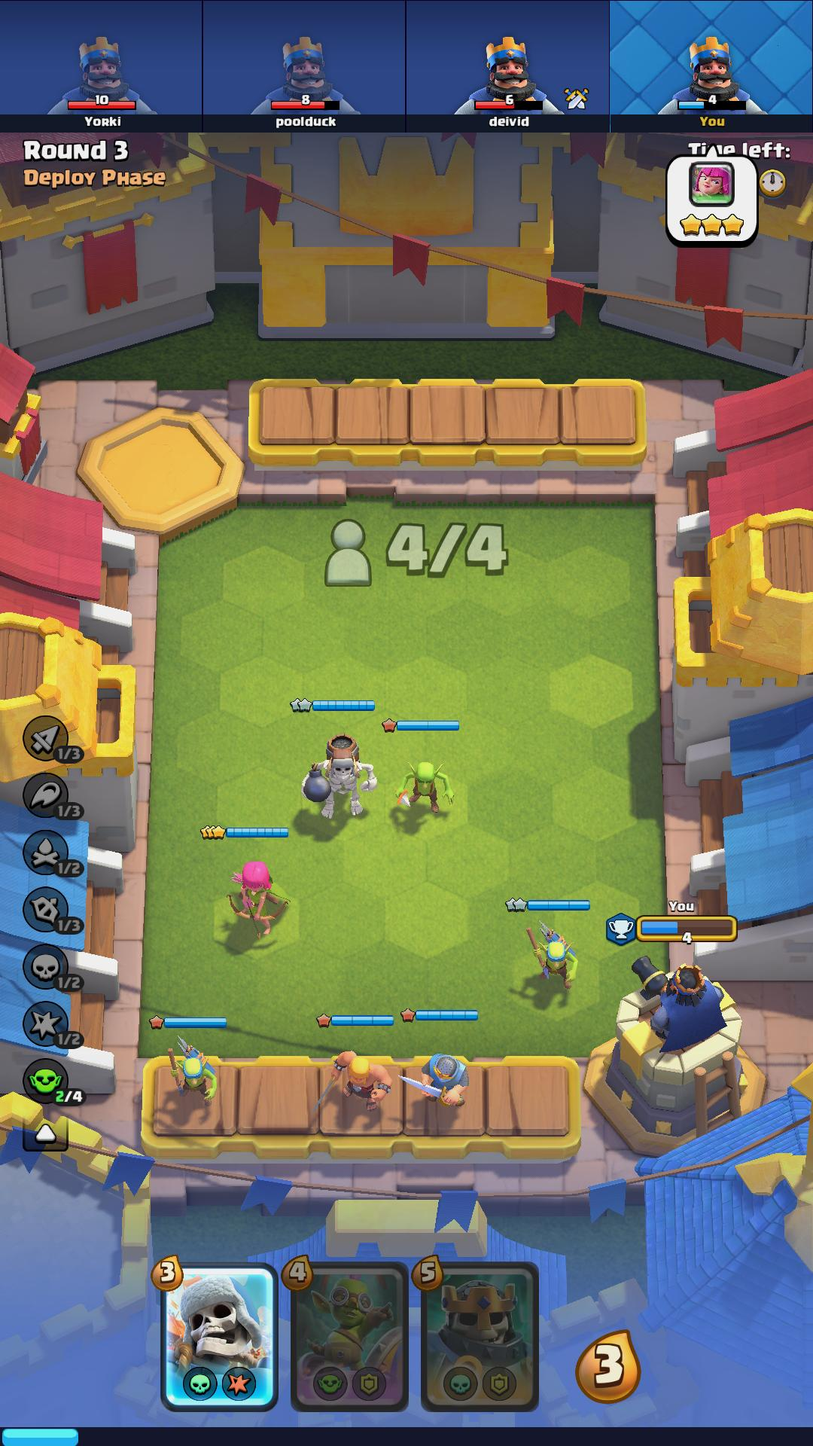archer: (211, 850, 299, 949)
barbarian: (315, 1039, 396, 1122)
giant: (300, 728, 376, 828)
goblin: (390, 746, 462, 830)
hand-giant: (163, 1268, 276, 1410)
hand-king: (423, 1267, 537, 1410)
hand-machine: (296, 1268, 408, 1411)
knight: (399, 1041, 473, 1122)
spear: (513, 918, 593, 997), (159, 1028, 220, 1106)
